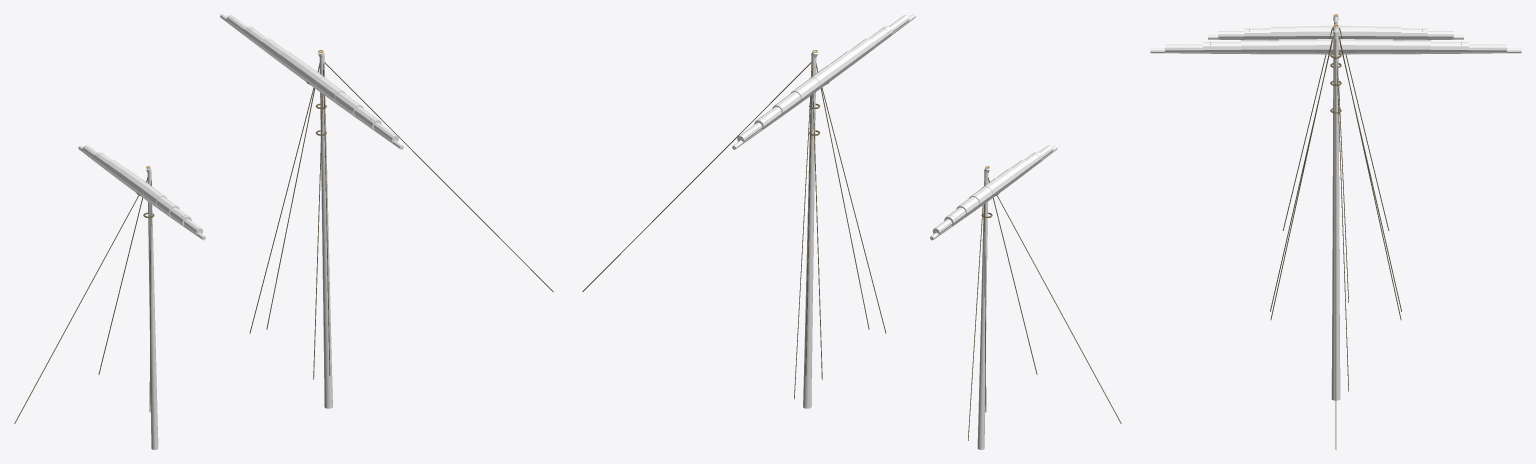
The model's file is Masts_Yards_Rigging.glb.
3 views of the same model, side by side, from view 1: azimuth 30°, elevation 25°; view 2: azimuth 150°, elevation 25°; view 3: azimuth 270°, elevation 25° (orthographic). The views are drawn at different scales.
Visible parts, largest first — view 1: Masts_Yards_Rigging; view 2: Masts_Yards_Rigging; view 3: Masts_Yards_Rigging.
Part boxes in pixels (x1,y1,x2,y2): Masts_Yards_Rigging: [14, 14, 553, 449]; Masts_Yards_Rigging: [582, 14, 1121, 449]; Masts_Yards_Rigging: [1150, 14, 1521, 449].
Size of the model in its own units: 8.04 by 5.1 by 4.65.
